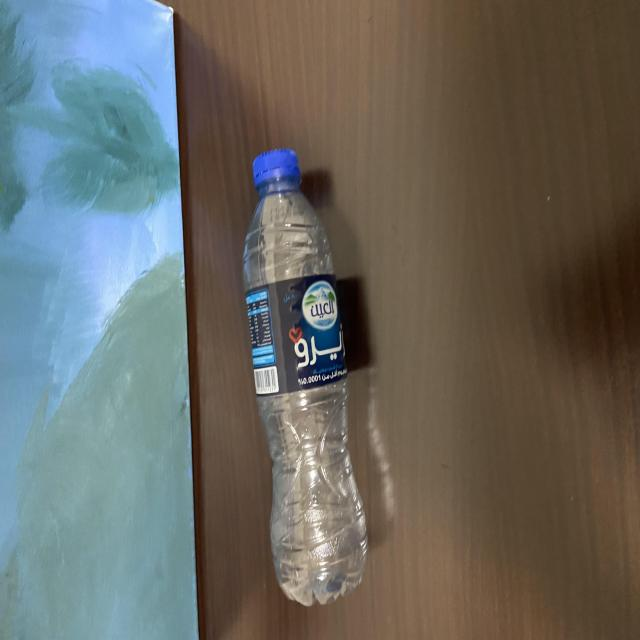plastic: (244, 145, 370, 607)
